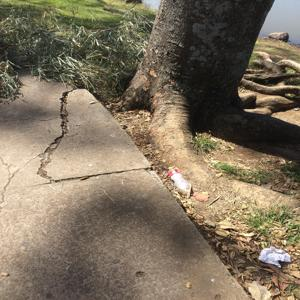plastic: (258, 247, 293, 272)
plastic bottle: (170, 163, 188, 203)
